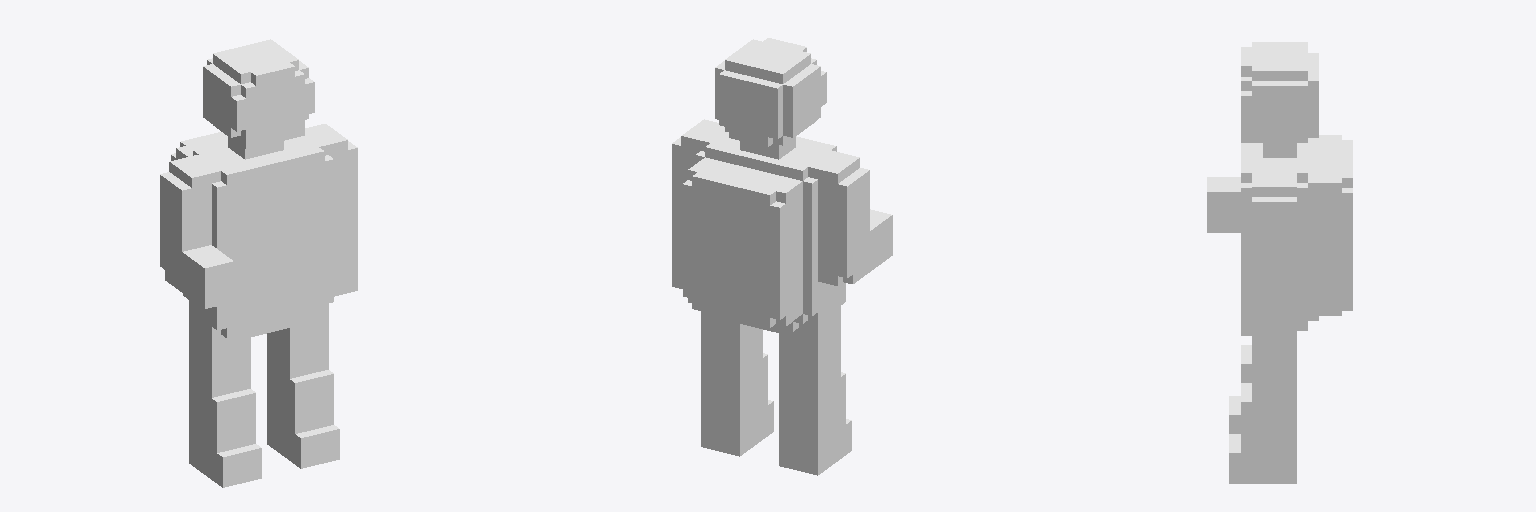
Rendered from playerwgun.obj.
The picture shows the model from 3 angles: view 1: azimuth 30°, elevation 25°; view 2: azimuth 150°, elevation 25°; view 3: azimuth 270°, elevation 25°; orthographic projection.
Visible parts, largest first — view 1: object 1; view 2: object 1; view 3: object 1.
Boxes of the visible parts, x1,y1,x2,y2 form: object 1: [160, 39, 357, 487]; object 1: [672, 38, 892, 475]; object 1: [1207, 42, 1352, 483].
Size of the model in its own units: 1.8 by 3.9 by 1.3.